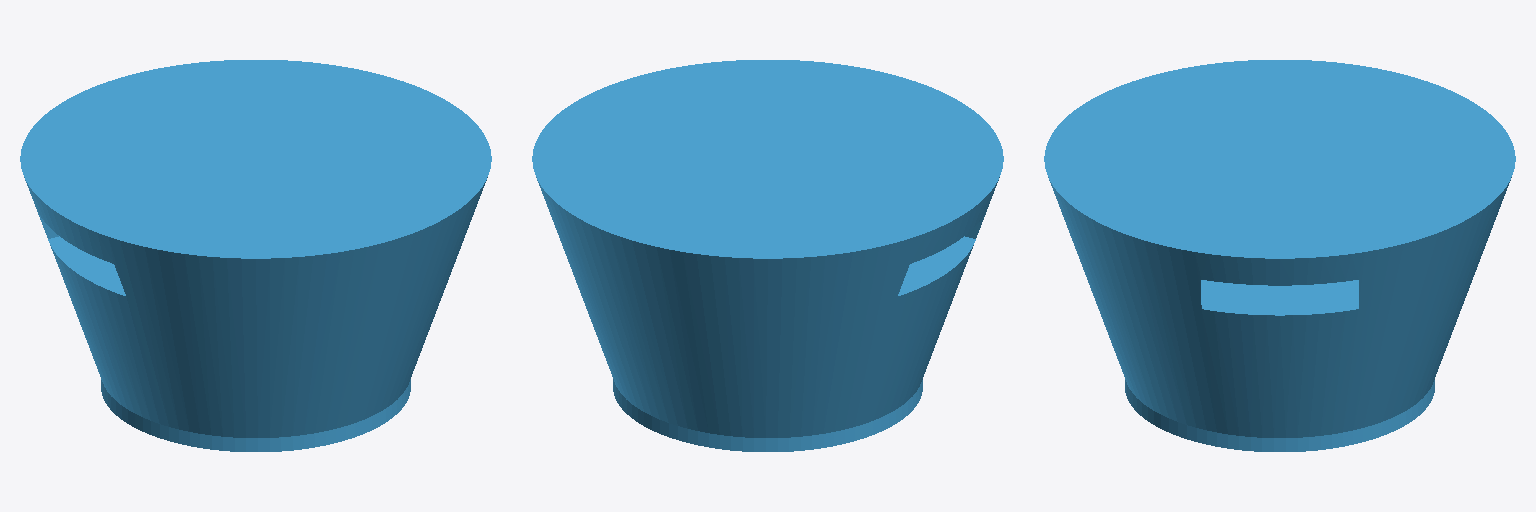
The robot description file, URDF, robot "robot_name":
<?xml version='1.0' encoding='UTF-8'?>
<robot name="robot_name">
  <link name="base_link">
    <inertial>
      <origin xyz="0.0 0.0 0.0" rpy="0.0 -0.0 0.0"/>
      <mass value="1.0"/>
      <inertia ixx="1.0" ixy="0.0" ixz="0.0" iyy="1.0" iyz="0.0" izz="1.0"/>
    </inertial>
  </link>
  <link name="child_link">
    <inertial>
      <origin xyz="0.0 0.0 0.0" rpy="0.0 -0.0 0.0"/>
      <mass value="1.0"/>
      <inertia ixx="1.0" ixy="0.0" ixz="0.0" iyy="1.0" iyz="0.0" izz="1.0"/>
    </inertial>
    <visual>
      <geometry>
        <mesh filename="../Stl/Stl/Base v2.stl"/>
      </geometry>
      <origin xyz="0.0 0.0 0.0" rpy="0.0 -0.0 0.0"/>
    </visual>
    <collision name="collision_name">
      <geometry>
        <mesh filename="../Stl/Stl/Base v2.stl"/>
      </geometry>
      <origin xyz="0.0 0.0 0.0" rpy="0.0 -0.0 0.0"/>
    </collision>
  </link>
  <joint name="joint_name" type="revolute">
    <limit effort="1.0" velocity="1.0" lower="-3.14" upper="3.14"/>
    <parent link="base_link"/>
    <child link="child_link"/>
    <axis xyz="0. 0. 1."/>
    <origin xyz="0.0 0.0 0.0" rpy="0.0 -0.0 0.0"/>
  </joint>
</robot>

--- Facts derived from the render (not from the file) ---
Views: 3 orthographic renders of the robot side by side, from view 1: azimuth 30°, elevation 25°; view 2: azimuth 150°, elevation 25°; view 3: azimuth 270°, elevation 25°.
Robot: robot_name — 2 links, 1 joints (1 revolute); root link base_link; default pose: all joints at 0.
Visible links, largest first — view 1: child_link; view 2: child_link; view 3: child_link.
Link boxes in pixels (bbox=[...]): child_link: bbox=[20, 60, 491, 451]; child_link: bbox=[532, 60, 1003, 451]; child_link: bbox=[1044, 60, 1515, 451].
Bounding box of the posed robot: 120 × 120 × 64 m (x, y, z).
Meshes: 1 distinct files referenced, 1 mesh visuals loaded (1 binary STL).